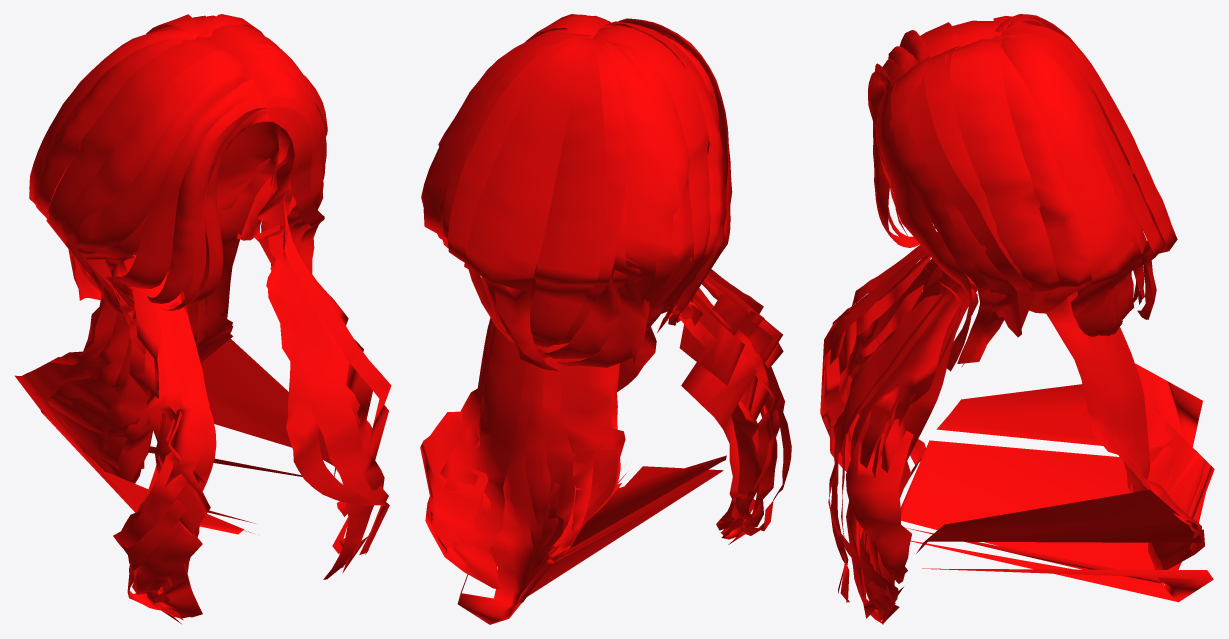
File: elvs_daisy_hair_F.glb
3 views of the same model, side by side, from view 1: azimuth 30°, elevation 25°; view 2: azimuth 150°, elevation 25°; view 3: azimuth 270°, elevation 25° (orthographic). The views are drawn at different scales.
Size of the model in its own units: 0.2822 by 0.5406 by 0.3412.
Materials: 1 (1 with a texture image).
